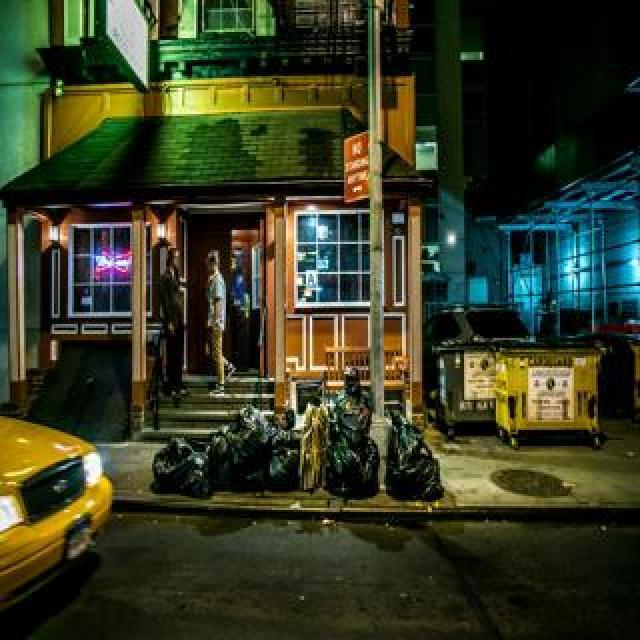Trashbag: (210, 409, 276, 494), (152, 430, 218, 499), (386, 425, 442, 502), (329, 439, 384, 499), (333, 384, 373, 446), (268, 430, 302, 495)
